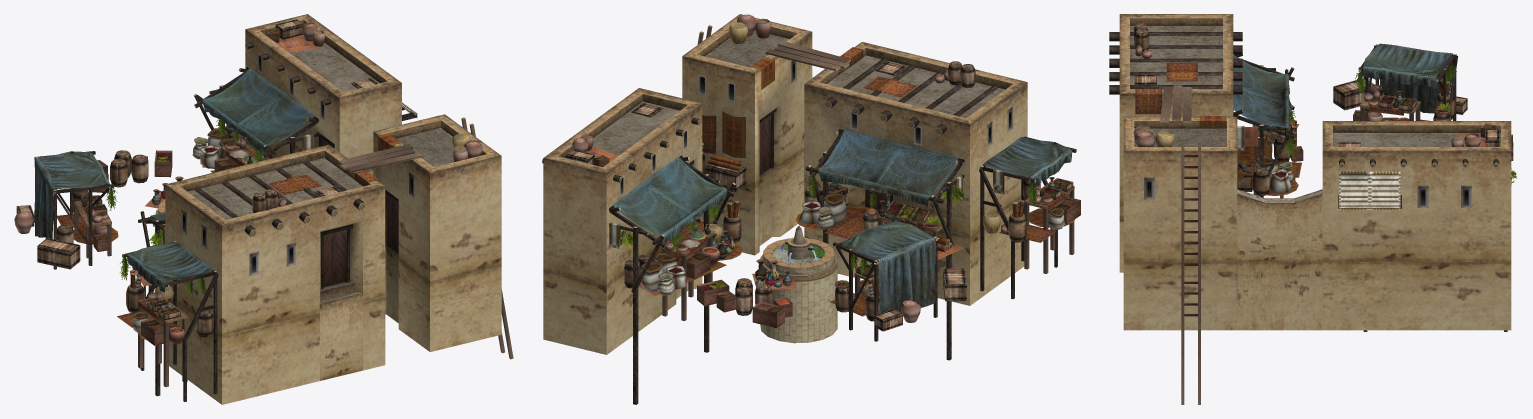
The model's file is ptol_market.glb.
The picture shows the model from 3 angles, left to right: view 1: azimuth 30°, elevation 25°; view 2: azimuth 150°, elevation 25°; view 3: azimuth 270°, elevation 25°; orthographic projection.
Parts seen in each view (by area): view 1: ptol_market_part0, ptol_market_part1, ptol_market_part8, ptol_market_part3, ptol_market_part9, ptol_market_part4, ptol_market_part10; view 2: ptol_market_part0, ptol_market_part5, ptol_market_part3, ptol_market_part8, ptol_market_part1, ptol_market_part4, ptol_market_part9, ptol_market_part10; view 3: ptol_market_part0, ptol_market_part3, ptol_market_part1, ptol_market_part5, ptol_market_part2.
Part boxes in pixels (box(x1,y1,x2,y2)): ptol_market_part0: box(117, 14, 513, 404); ptol_market_part1: box(14, 151, 118, 269); ptol_market_part8: box(202, 68, 315, 153); ptol_market_part3: box(34, 151, 109, 238); ptol_market_part9: box(127, 242, 214, 292); ptol_market_part4: box(92, 150, 172, 192); ptol_market_part10: box(120, 118, 263, 296); ptol_market_part0: box(542, 14, 1080, 404); ptol_market_part5: box(818, 130, 958, 206); ptol_market_part3: box(838, 220, 935, 313); ptol_market_part8: box(612, 156, 727, 242); ptol_market_part1: box(830, 218, 966, 341); ptol_market_part4: box(697, 278, 792, 327); ptol_market_part9: box(982, 136, 1072, 183); ptol_market_part10: box(618, 176, 1037, 250); ptol_market_part0: box(1109, 14, 1513, 404); ptol_market_part3: box(1363, 43, 1452, 113); ptol_market_part1: box(1333, 44, 1467, 120); ptol_market_part5: box(1233, 55, 1292, 130); ptol_market_part2: box(1354, 62, 1456, 110).
Bounding box in the file's own units: 4.2 × 2.56 × 3.86.
Materials: 6 (6 with a texture image).
